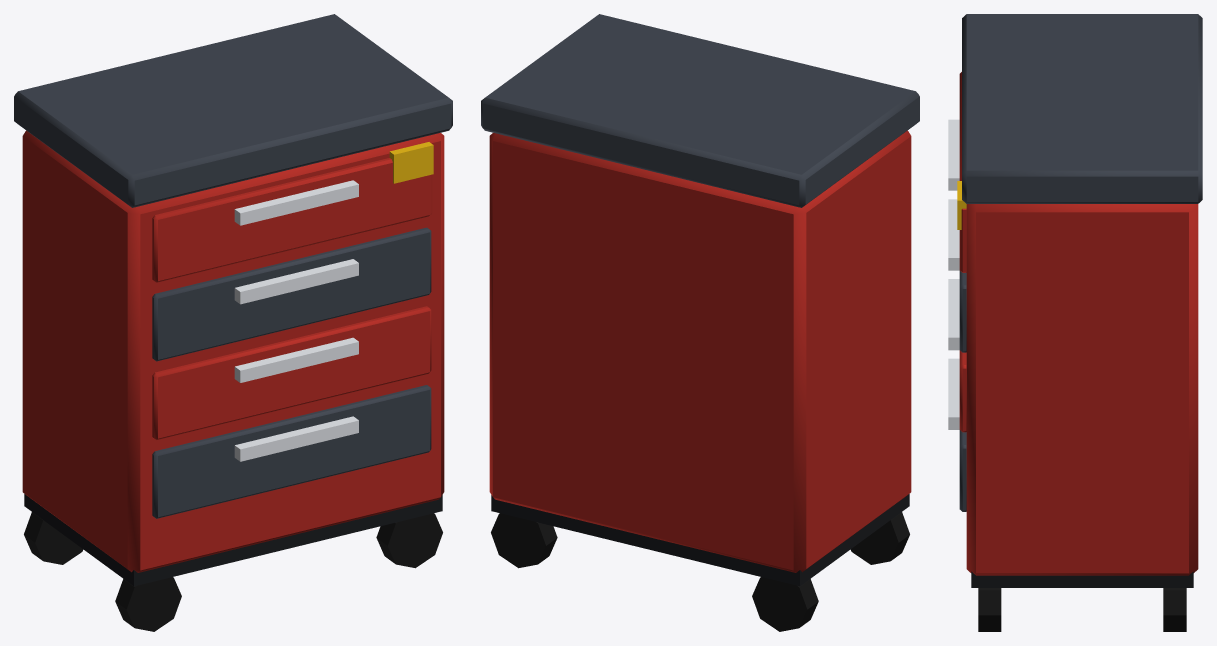
Rendered from engtool_rolling_toolbox.glb.
3 renders of one model, left to right at view 1: azimuth 30°, elevation 25°; view 2: azimuth 150°, elevation 25°; view 3: azimuth 270°, elevation 25°, orthographic.
Parts seen in each view (by area): view 1: engtool_rolling_toolbox; view 2: engtool_rolling_toolbox; view 3: engtool_rolling_toolbox.
Boxes of the visible parts, box(x1,y1,x2,y2) form: engtool_rolling_toolbox: box(14, 14, 452, 631); engtool_rolling_toolbox: box(481, 14, 919, 631); engtool_rolling_toolbox: box(948, 14, 1202, 631).
Size of the model in its own units: 0.82 by 1.13 by 0.55.
